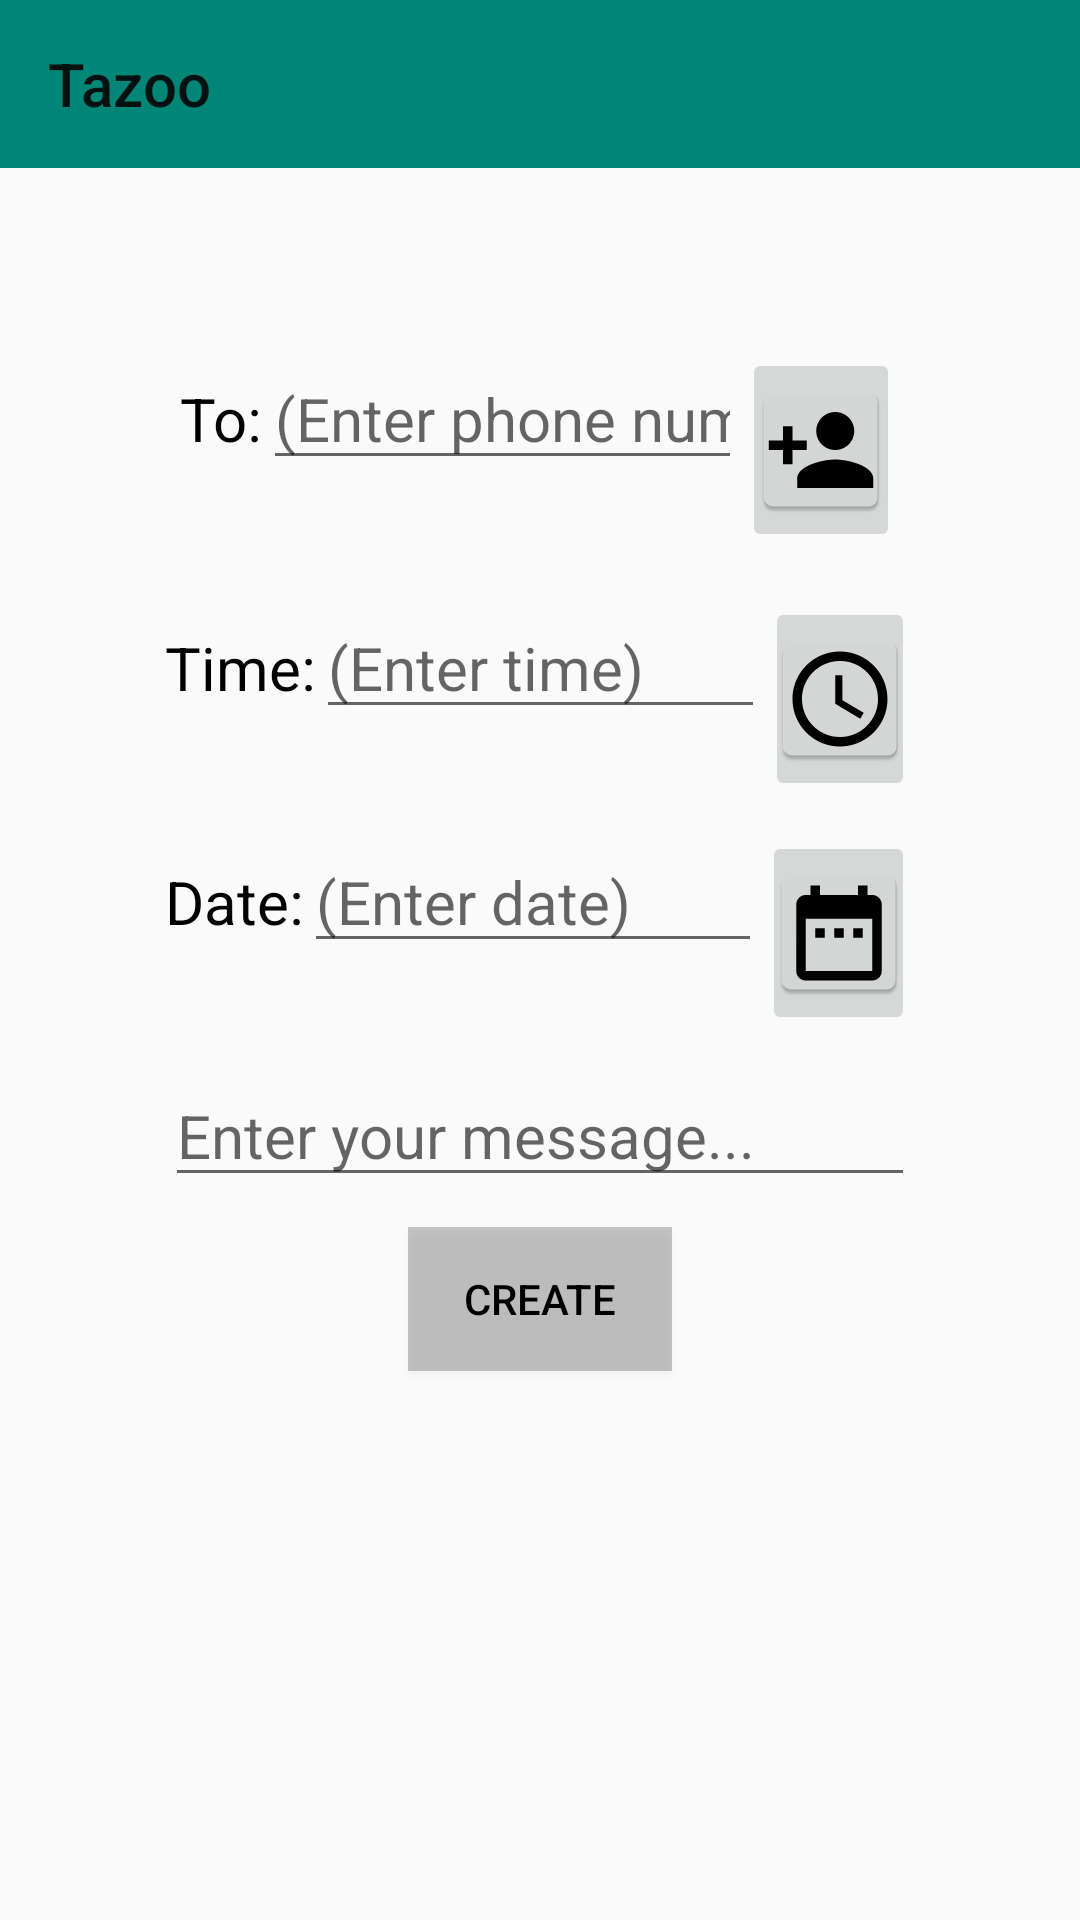

Point at icon controls on the screen. Image size 1080x1920, points as [x,y].
add date: [838,933]
add person: [821,450]
add time: [840,699]
